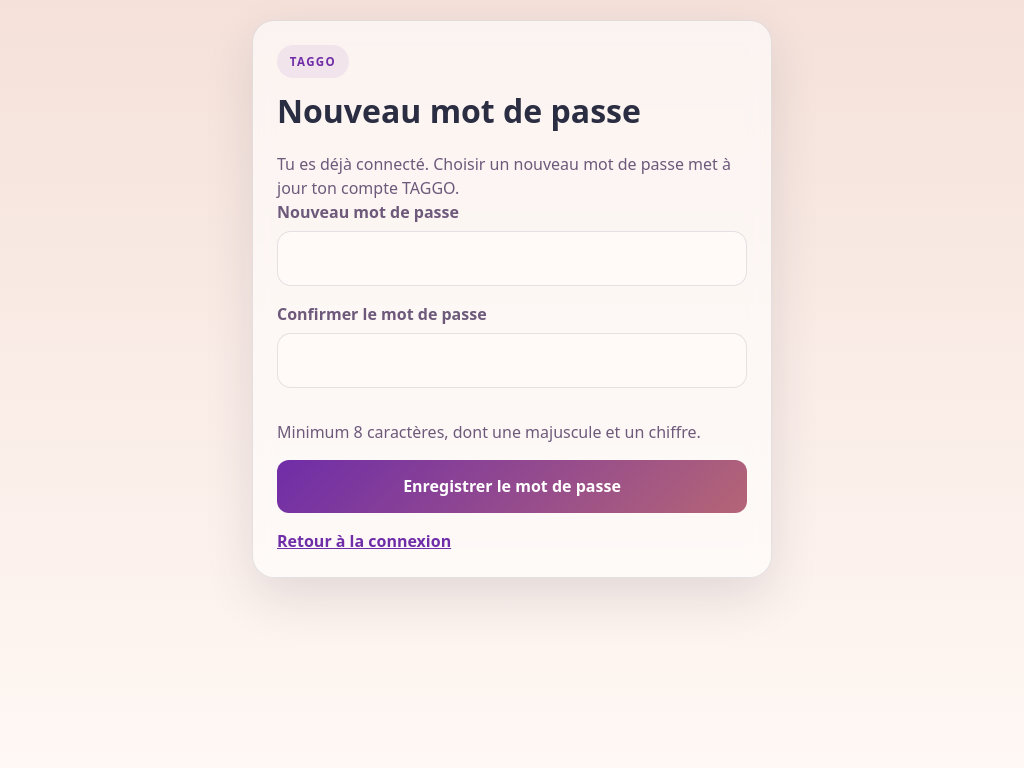
/reset-password › refuse un mot de passe trop faible sans appeler Supabase
In the password field labelled "Nouveau mot de passe": {"x": 512, "y": 258} [277,231,747,286], type "short"
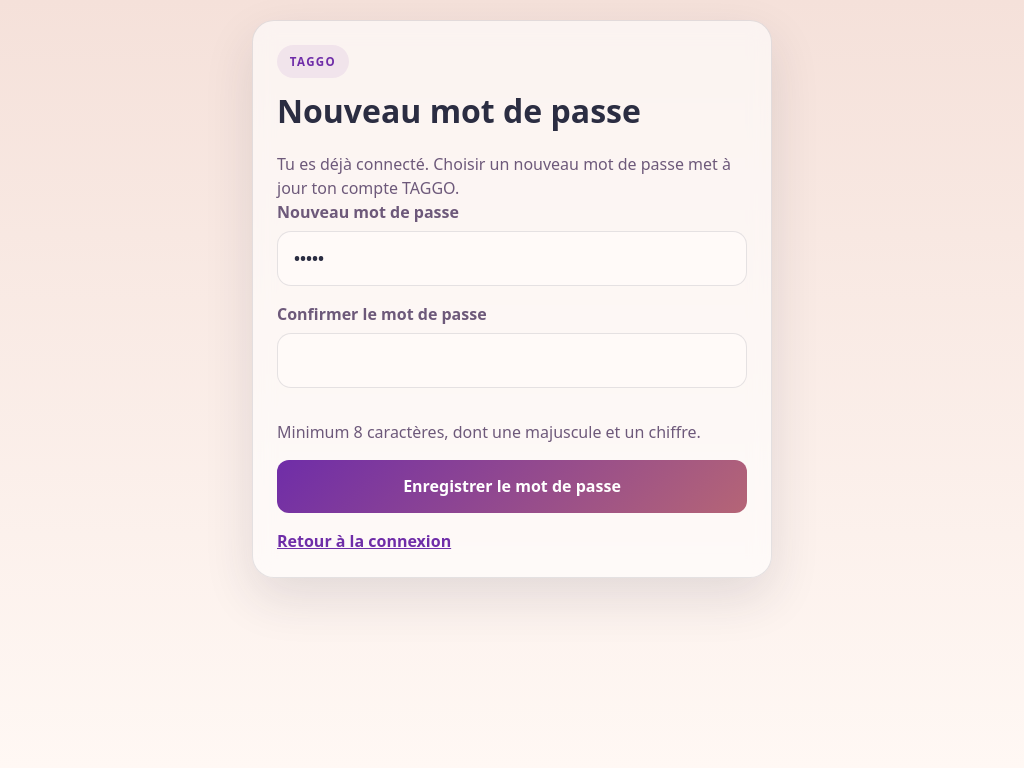
In the password field labelled "Confirmer le mot de passe": {"x": 512, "y": 360} [277,333,747,388], type "short"
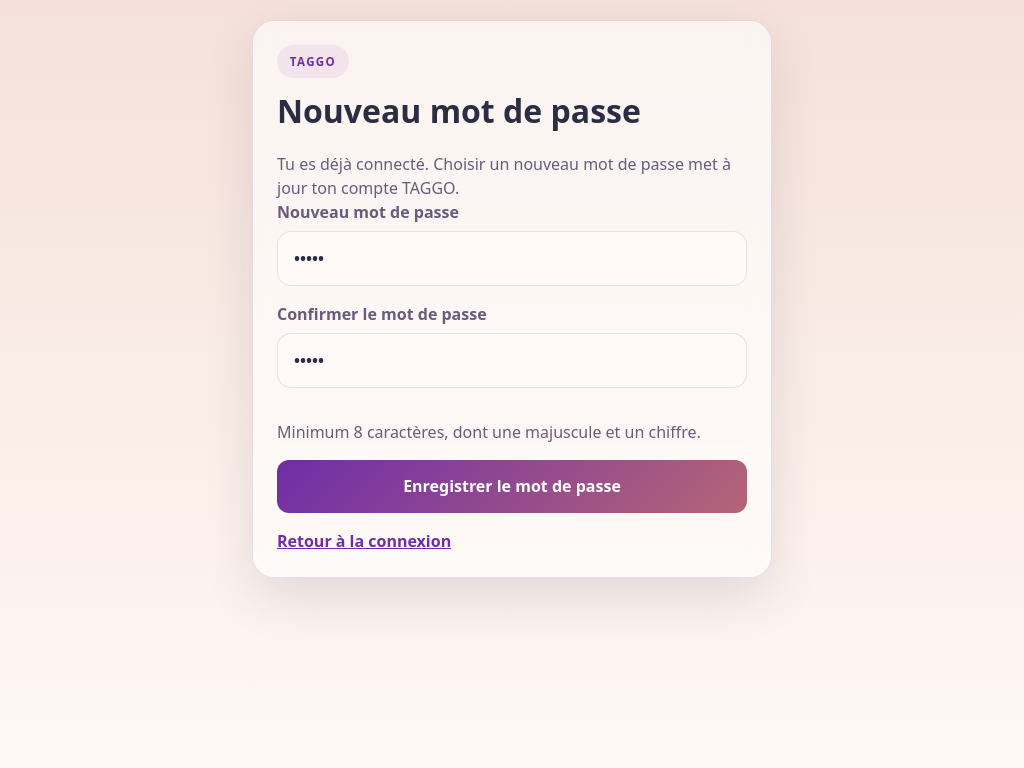
Submit the form named "Enregistrer le mot de passe", box [277,200,747,512]
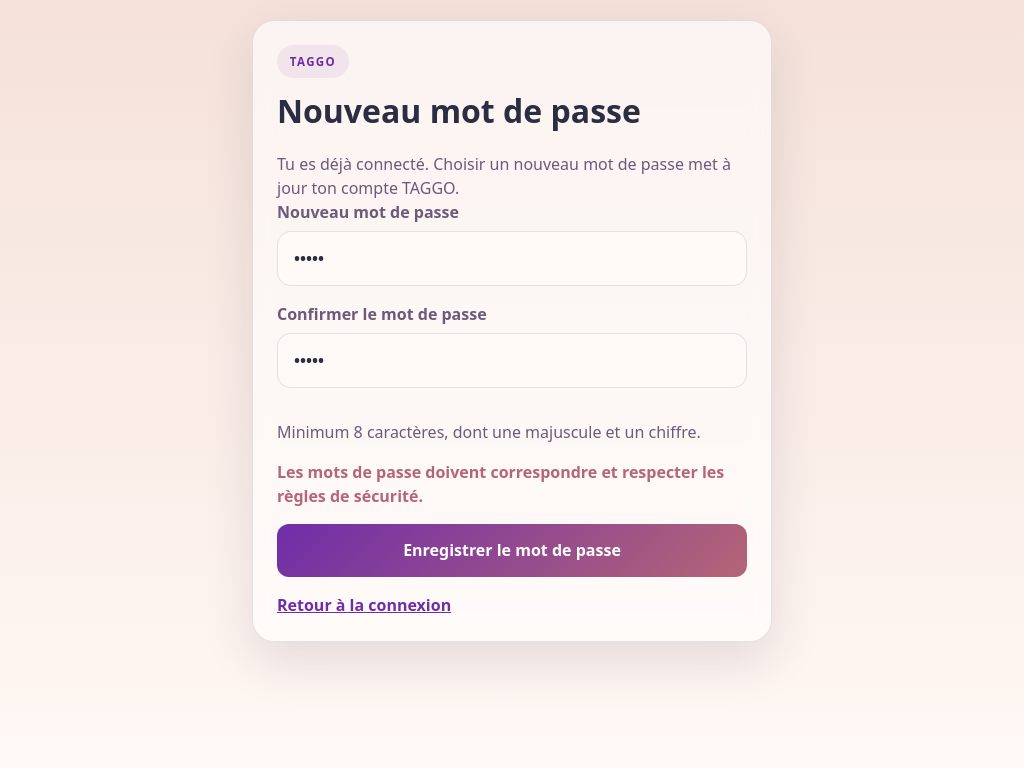
Result: the message shows "règles de sécurité" at [277,461,724,507]
